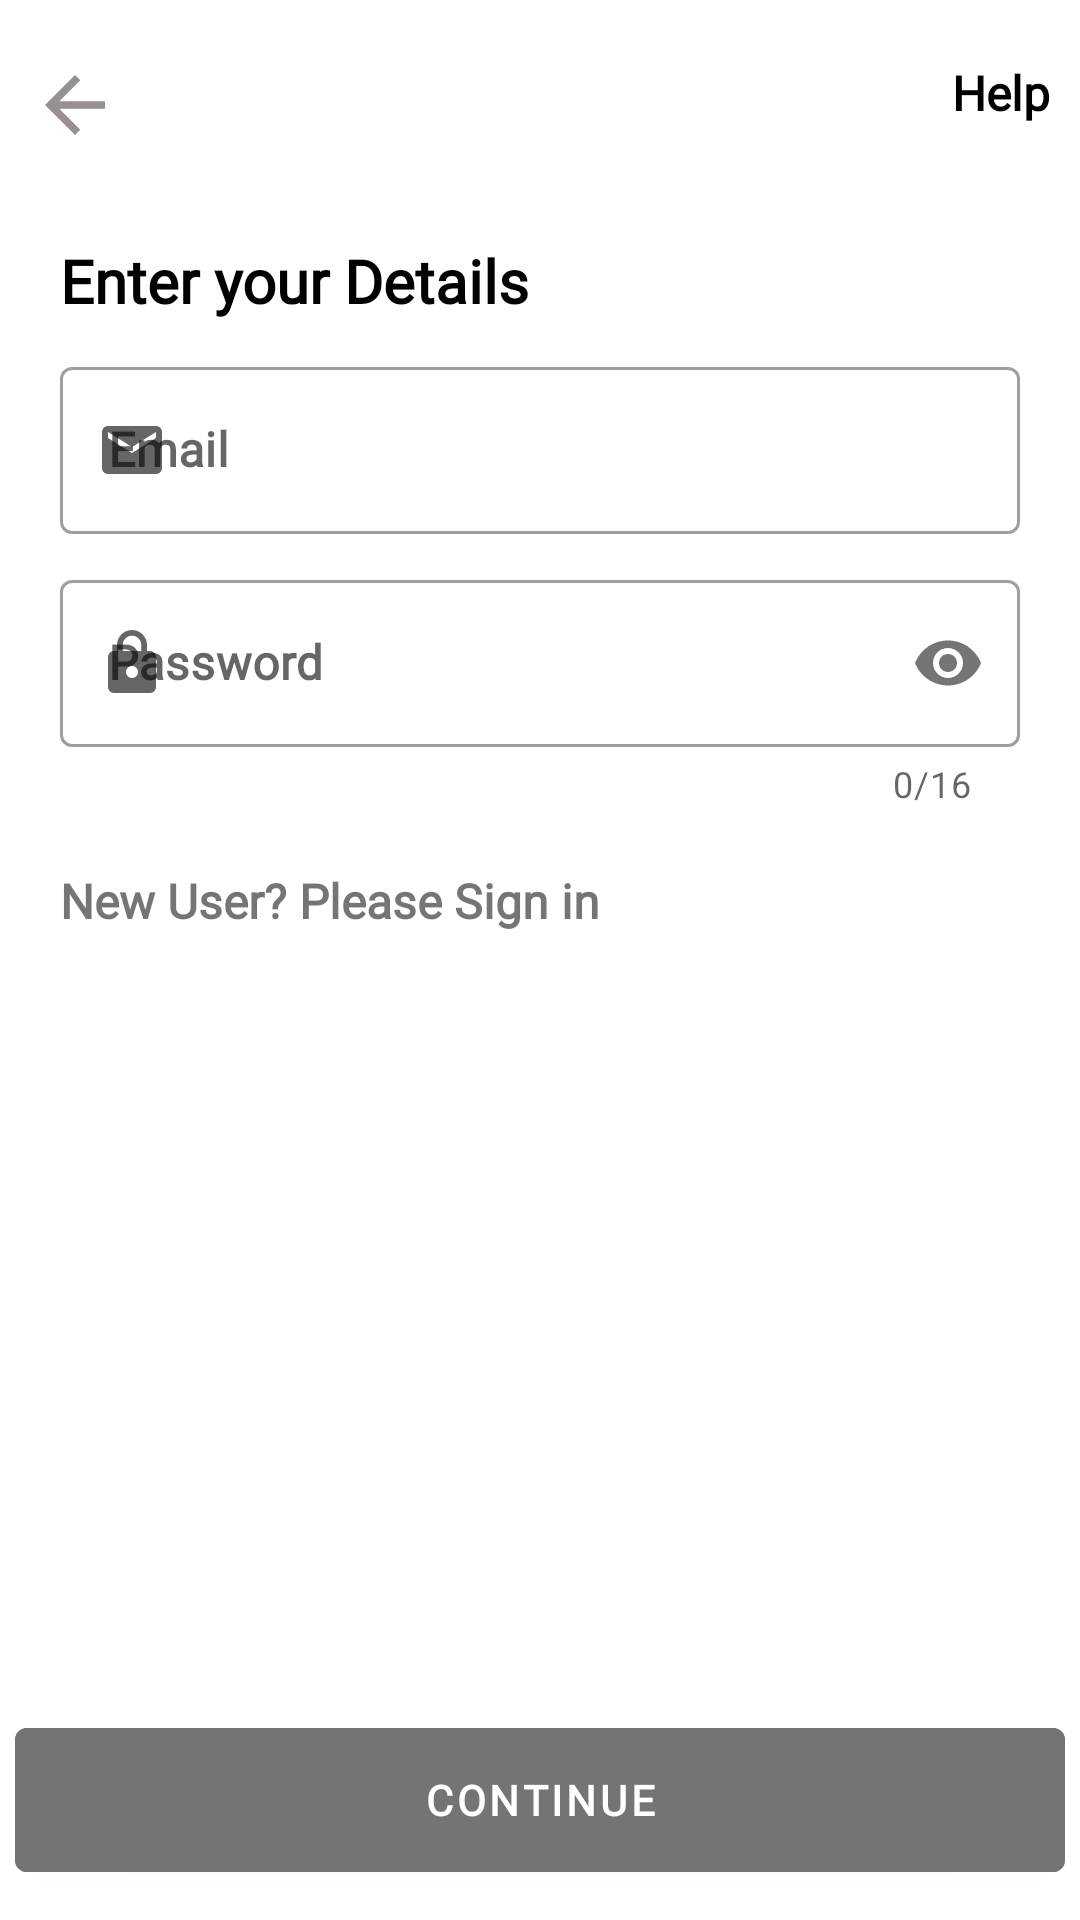

Where to tap for icons on this 1080x1920 app screen, as (x,y):
arrow back: (75,105)
